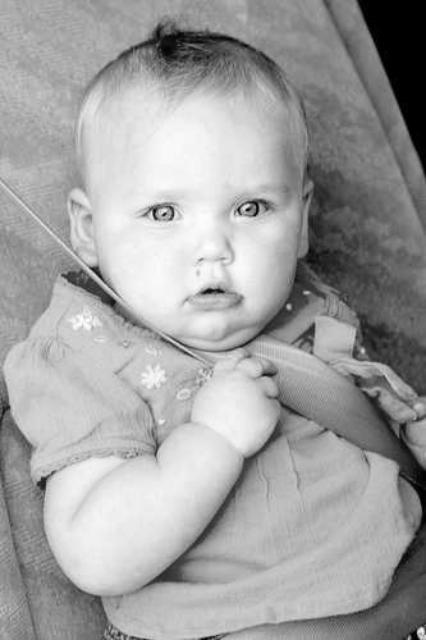SafeDriving: (219, 180, 288, 230), (127, 184, 195, 233)
Seatbelt: (0, 170, 426, 490)
